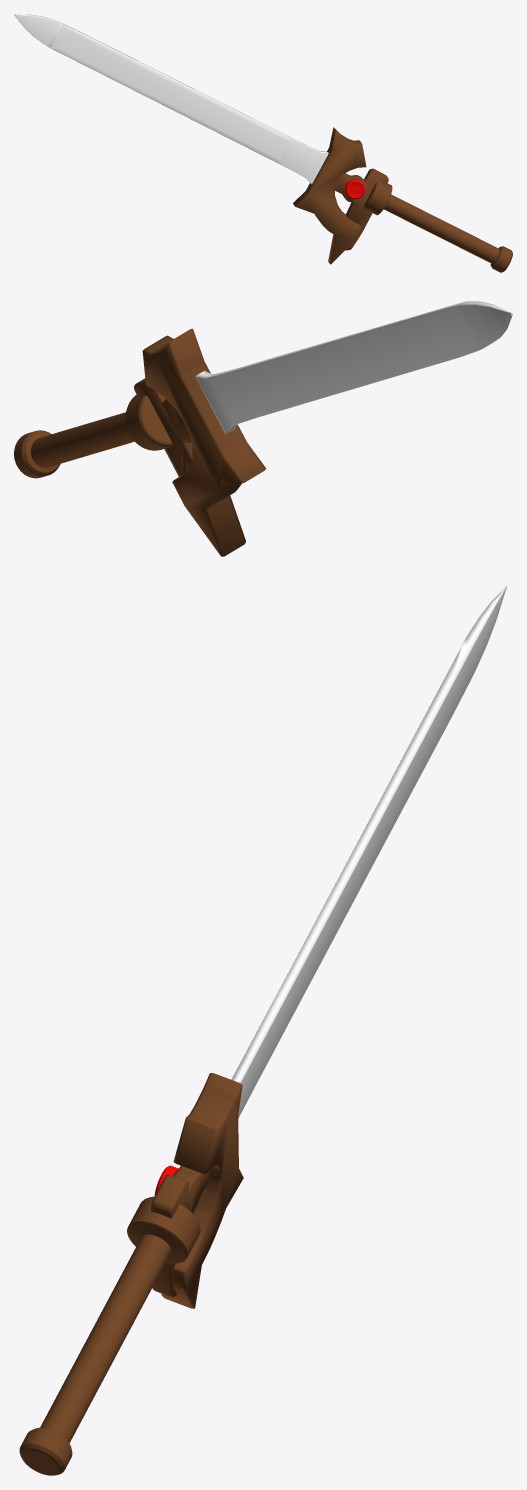
Rendered from sword-fantasy.glb.
The picture shows the model from 3 angles, top to bottom: view 1: azimuth 30°, elevation 25°; view 2: azimuth 150°, elevation 25°; view 3: azimuth 270°, elevation 25°; orthographic projection. The views are drawn at different scales.
Parts seen in each view (by area): view 1: Cylinder.001_0; view 2: Cylinder.001_0; view 3: Cylinder.001_0.
Boxes of the visible parts, x1,y1,x2,y2 form: Cylinder.001_0: (14, 14, 512, 272); Cylinder.001_0: (14, 301, 512, 556); Cylinder.001_0: (19, 585, 507, 1475).
Size of the model in its own units: 1.49 by 0.9789 by 0.8212.
